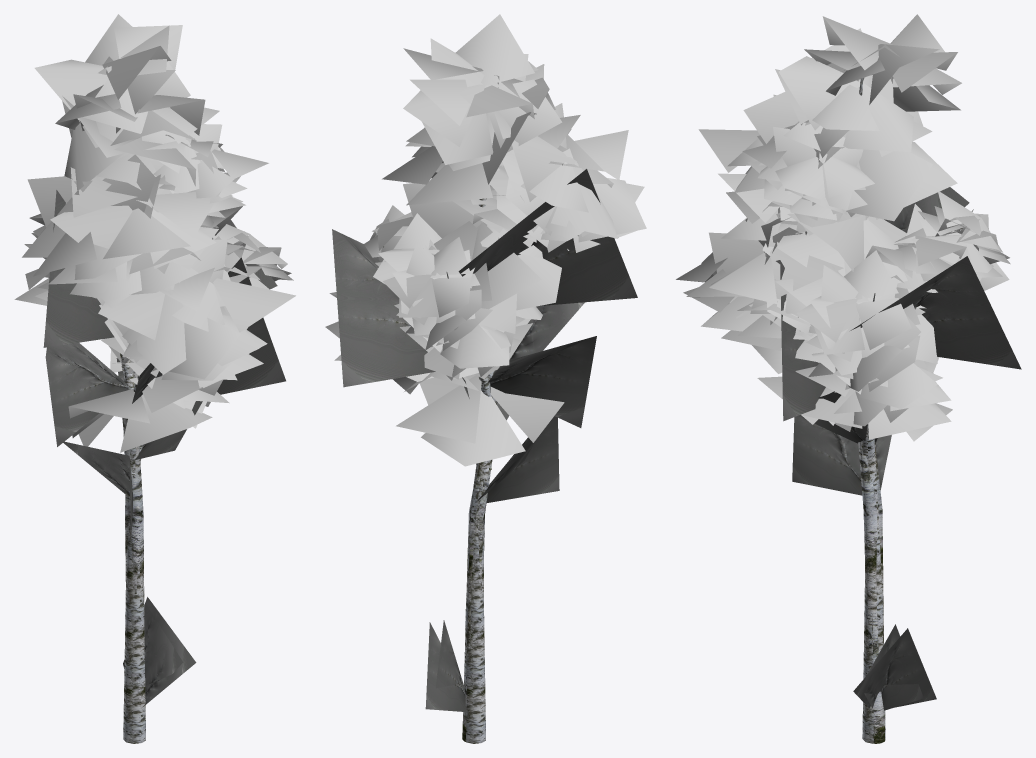
The model's file is BirchTree.fbx.
3 views of the same model, side by side, from view 1: azimuth 30°, elevation 25°; view 2: azimuth 150°, elevation 25°; view 3: azimuth 270°, elevation 25° (orthographic). The views are drawn at different scales.
Parts seen in each view (by area): view 1: birch_13m; view 2: birch_13m; view 3: birch_13m.
Boxes of the visible parts, box(x1,y1,x2,y2) form: birch_13m: box(14, 14, 295, 743); birch_13m: box(325, 14, 646, 743); birch_13m: box(676, 14, 1021, 743).
Bounding box in the file's own units: 53262 × 130809 × 56840.
